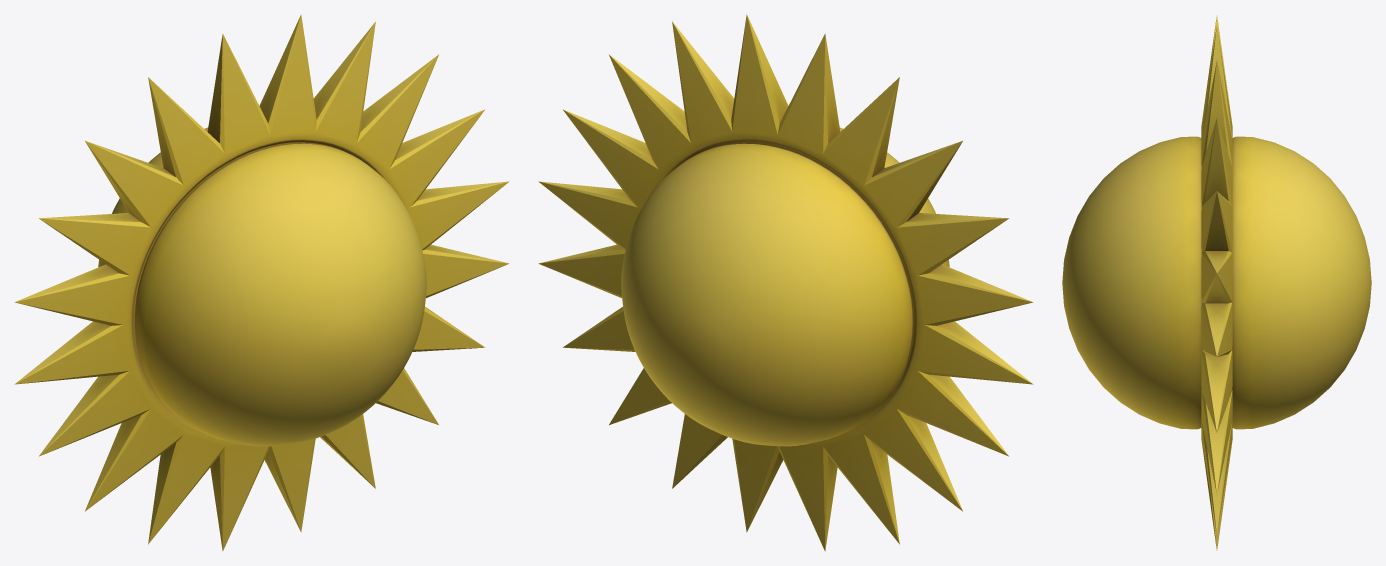
File: sun.glb
The picture shows the model from 3 angles, left to right: view 1: azimuth 30°, elevation 25°; view 2: azimuth 150°, elevation 25°; view 3: azimuth 270°, elevation 25°; orthographic projection. The views are drawn at different scales.
Visible parts, largest first — view 1: node_id30; view 2: node_id30; view 3: node_id30.
Boxes of the visible parts, x1,y1,x2,y2 form: node_id30: [14, 14, 509, 551]; node_id30: [538, 14, 1033, 551]; node_id30: [1062, 15, 1371, 550].
Bounding box in the file's own units: 0.512 × 0.512 × 0.298.
Materials: 1 (1 with a texture image).
